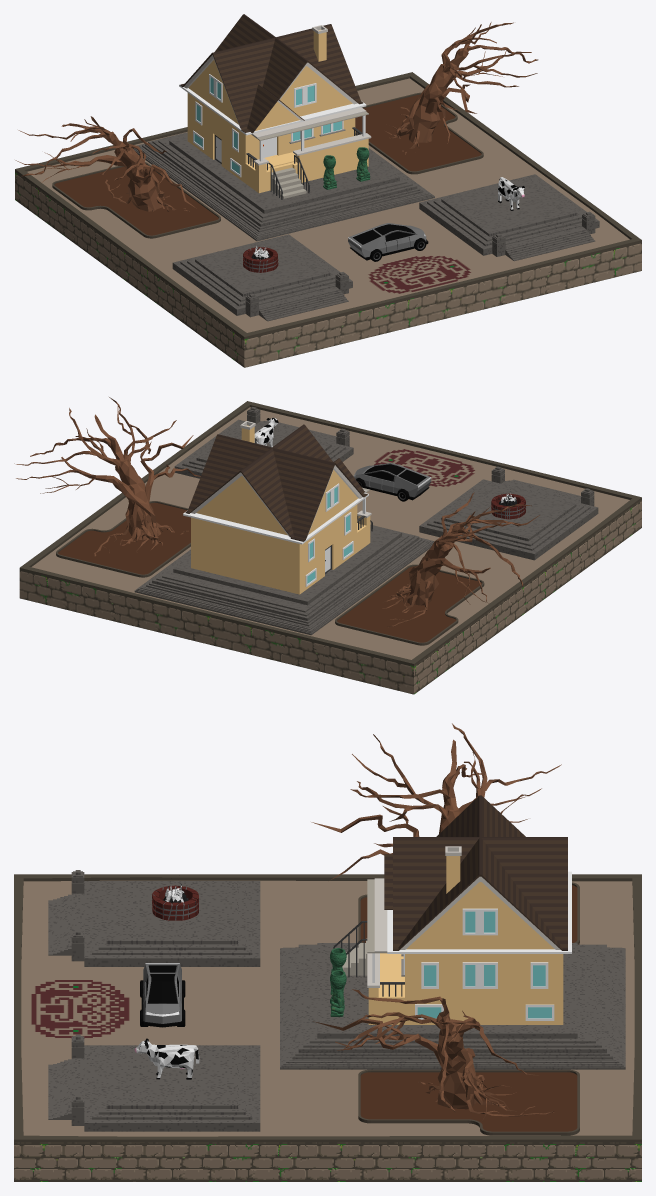
3 views of the same model, one above another, from view 1: azimuth 30°, elevation 25°; view 2: azimuth 150°, elevation 25°; view 3: azimuth 270°, elevation 25° (orthographic). The views are drawn at different scales.
Visible parts, largest first — view 1: Cube.011, Cube.235, VEHICLES_CYBERTRUCK, OBJRANDOM_CAMPFIRE, ANIMAL_VACA; view 2: Cube.011, Cube.235, VEHICLES_CYBERTRUCK, OBJRANDOM_CAMPFIRE; view 3: Cube.011, Cube.235, VEHICLES_CYBERTRUCK, OBJRANDOM_CAMPFIRE, ANIMAL_VACA.
Boxes of the visible parts, x1,y1,x2,y2 form: Cube.011: (15, 22, 641, 367); Cube.235: (179, 14, 371, 199); VEHICLES_CYBERTRUCK: (348, 223, 428, 261); OBJRANDOM_CAMPFIRE: (243, 245, 278, 272); ANIMAL_VACA: (497, 177, 524, 210); Cube.011: (14, 397, 641, 694); Cube.235: (183, 421, 372, 594); VEHICLES_CYBERTRUCK: (353, 463, 431, 501); OBJRANDOM_CAMPFIRE: (491, 493, 525, 519); Cube.011: (14, 723, 641, 1181); Cube.235: (333, 795, 571, 1024); VEHICLES_CYBERTRUCK: (140, 963, 185, 1027); OBJRANDOM_CAMPFIRE: (152, 883, 198, 920); ANIMAL_VACA: (134, 1038, 199, 1079).
Size of the model in its own units: 5099 by 1668 by 4000.
31 materials, 5 textured.
